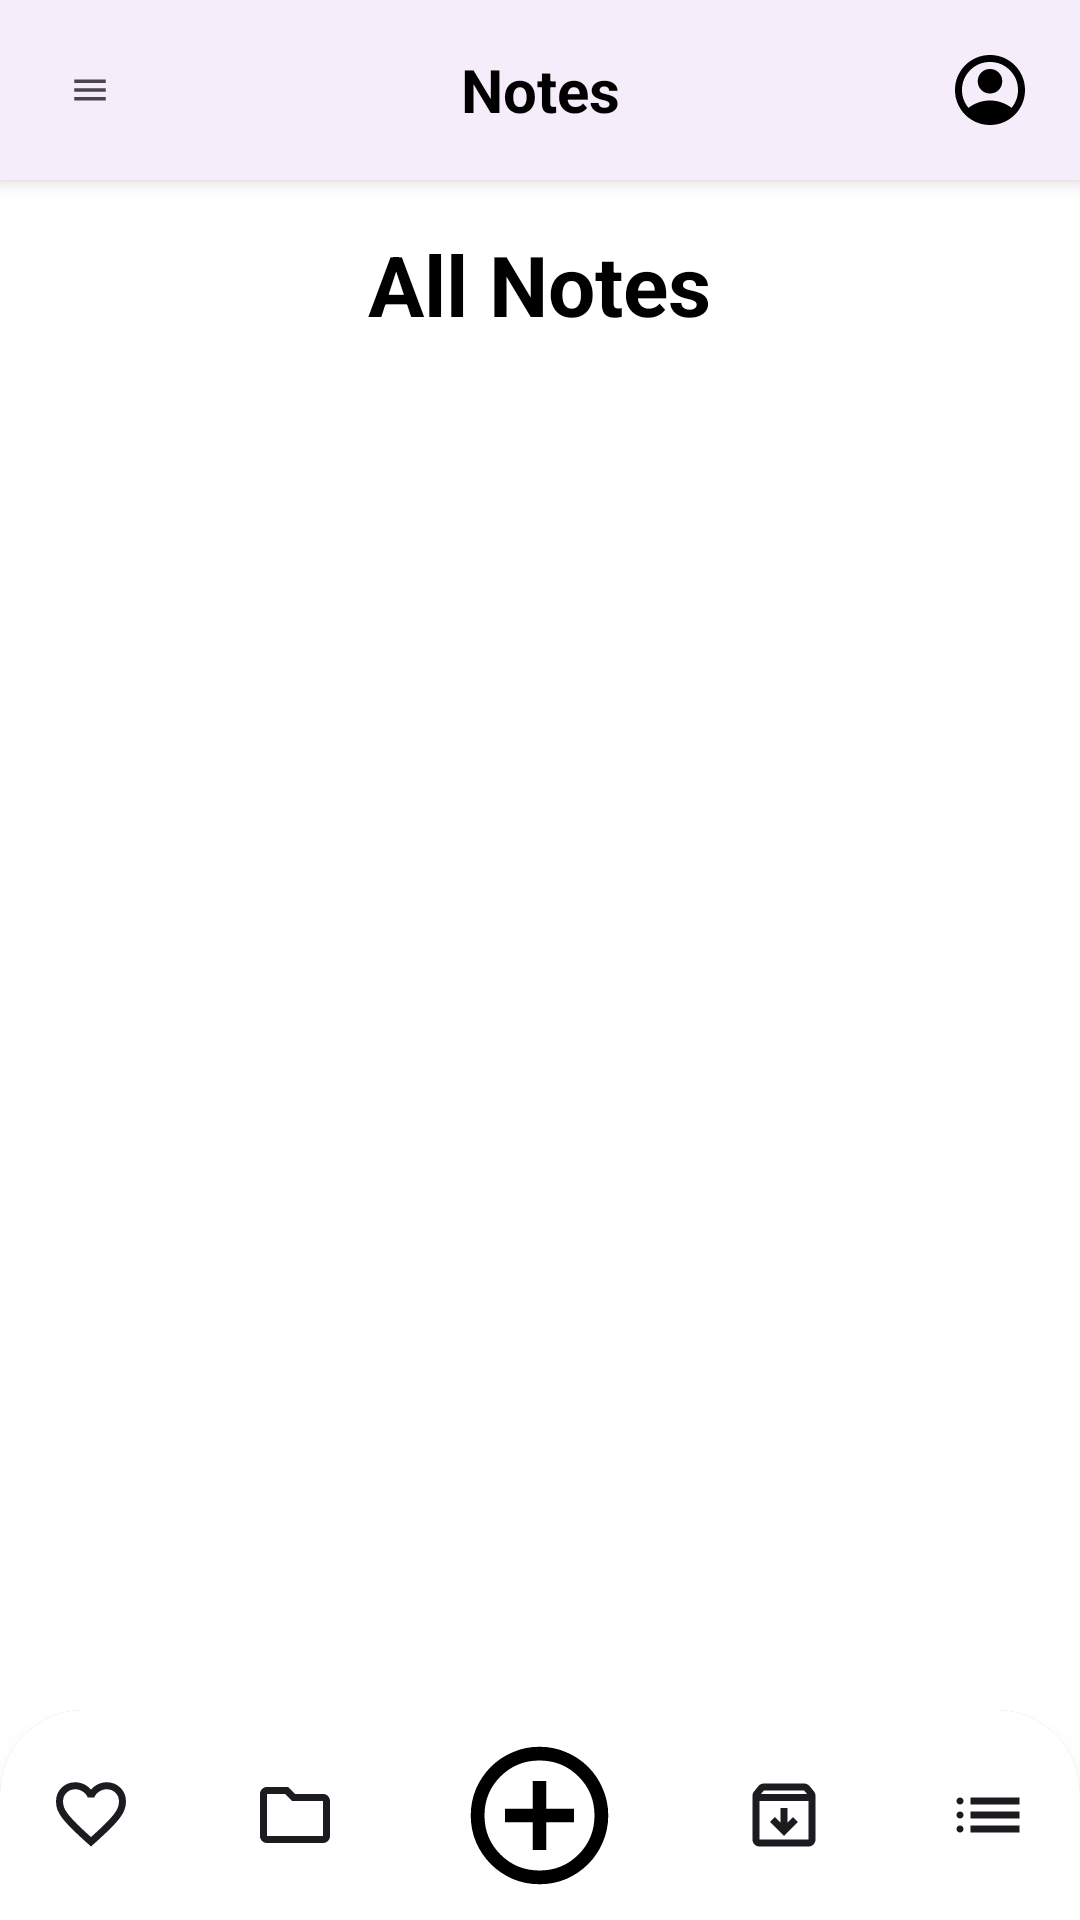

Icon bounding boxes for this 1080 x 1920 phone screenshot, format box(x1, y1, x2, y2):
account circle: box(955, 55, 1025, 125)
add circle: box(470, 1746, 609, 1885)
archive: box(752, 1783, 816, 1847)
favorite: box(56, 1782, 126, 1847)
folder: box(260, 1787, 330, 1843)
list: box(956, 1797, 1020, 1833)
